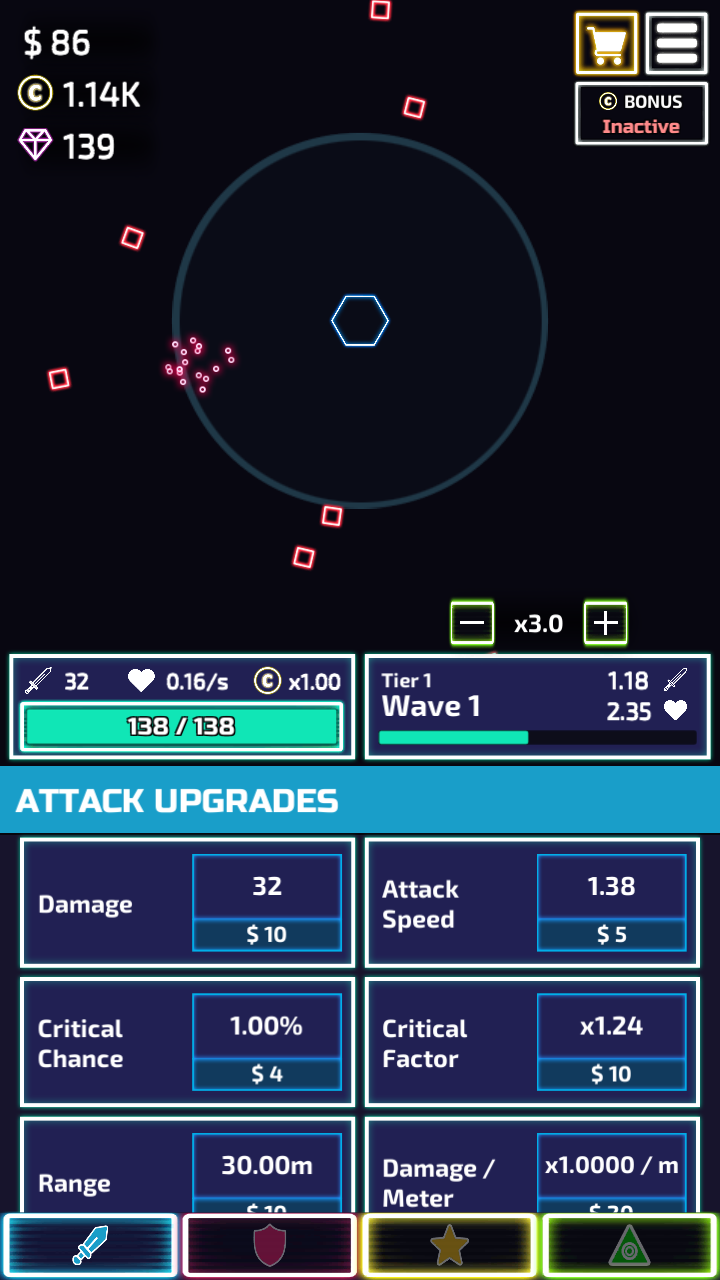B_Menu_Closed: (575, 14, 709, 77)
B_Slot: (365, 842, 705, 965), (20, 979, 351, 1098), (21, 840, 351, 958), (367, 981, 700, 1097), (363, 1120, 700, 1209), (25, 1120, 352, 1209)
B_Slot_Button: (185, 993, 344, 1091), (190, 855, 344, 954), (532, 853, 685, 952), (538, 992, 687, 1090), (531, 1129, 693, 1211), (185, 1134, 344, 1211)
B_Slot_Label: (369, 862, 481, 945), (21, 1009, 148, 1082), (369, 1148, 509, 1207), (370, 1009, 482, 1075), (21, 879, 155, 926), (28, 1159, 128, 1205)
B_Slot_Price: (571, 1056, 652, 1093), (226, 908, 292, 952), (231, 1052, 287, 1095), (584, 917, 636, 952)
B_Slot_Value: (529, 1132, 689, 1180), (199, 1141, 322, 1184), (207, 1002, 322, 1047), (557, 1004, 655, 1047), (230, 858, 306, 904), (566, 867, 648, 908)
B_Tab_Attack: (2, 766, 720, 831)
